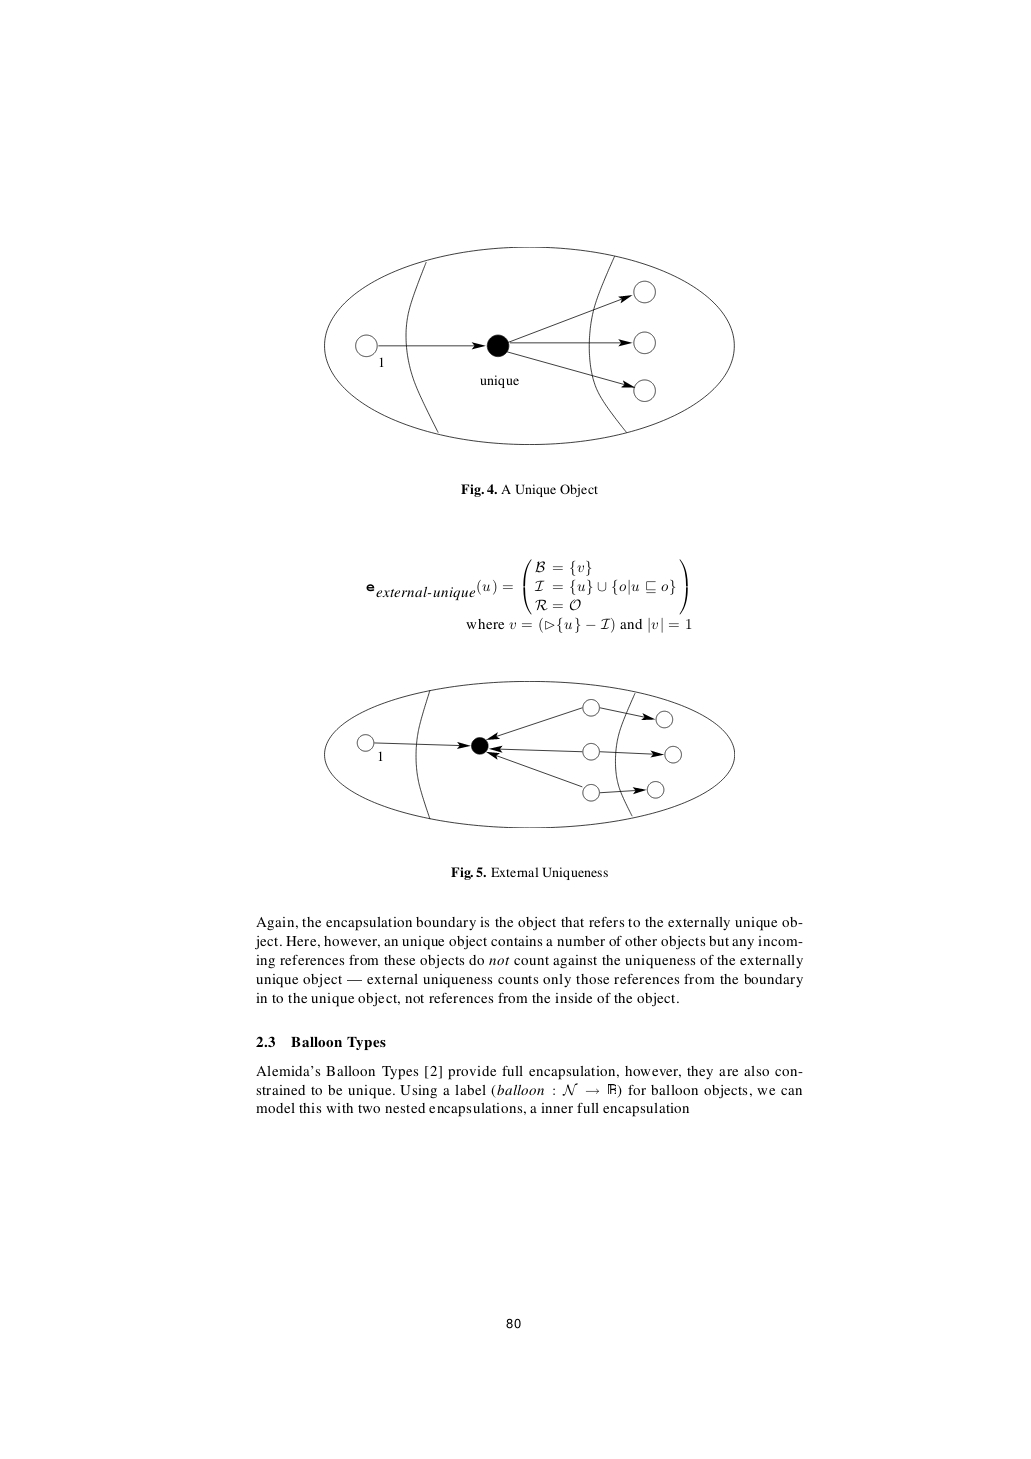figure: (324, 245, 734, 445), (324, 680, 734, 828)
formula: (366, 559, 691, 632)
